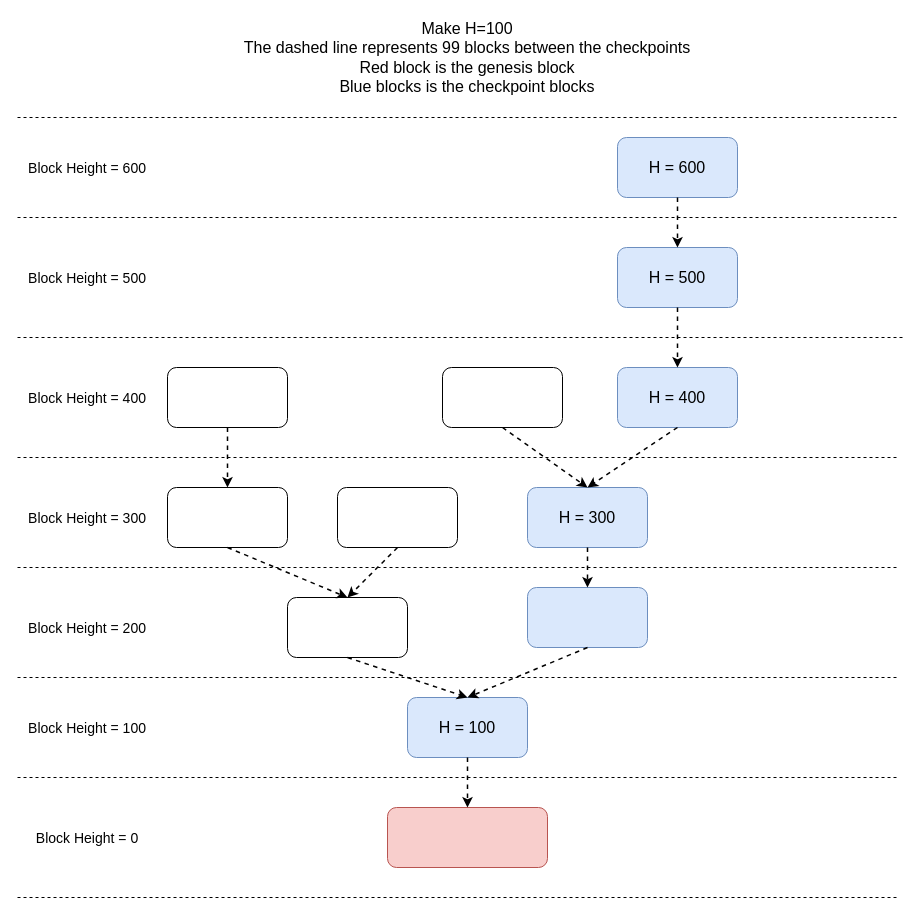
The diagram is 921 pixels wide and 916 high, and some of its shapes have lost their labels. Each missing label, with the box of its shape:
Genesis Block: (386, 806, 548, 868)
H = 200: (526, 586, 648, 648)
